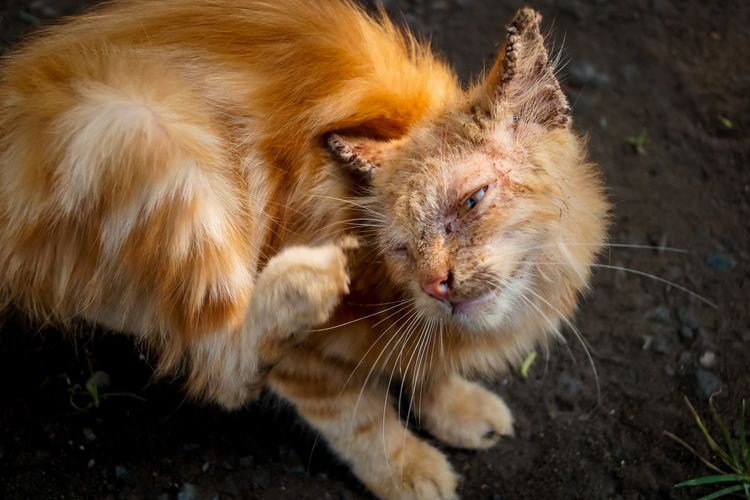kudis: (476, 4, 584, 135), (319, 126, 384, 175)
